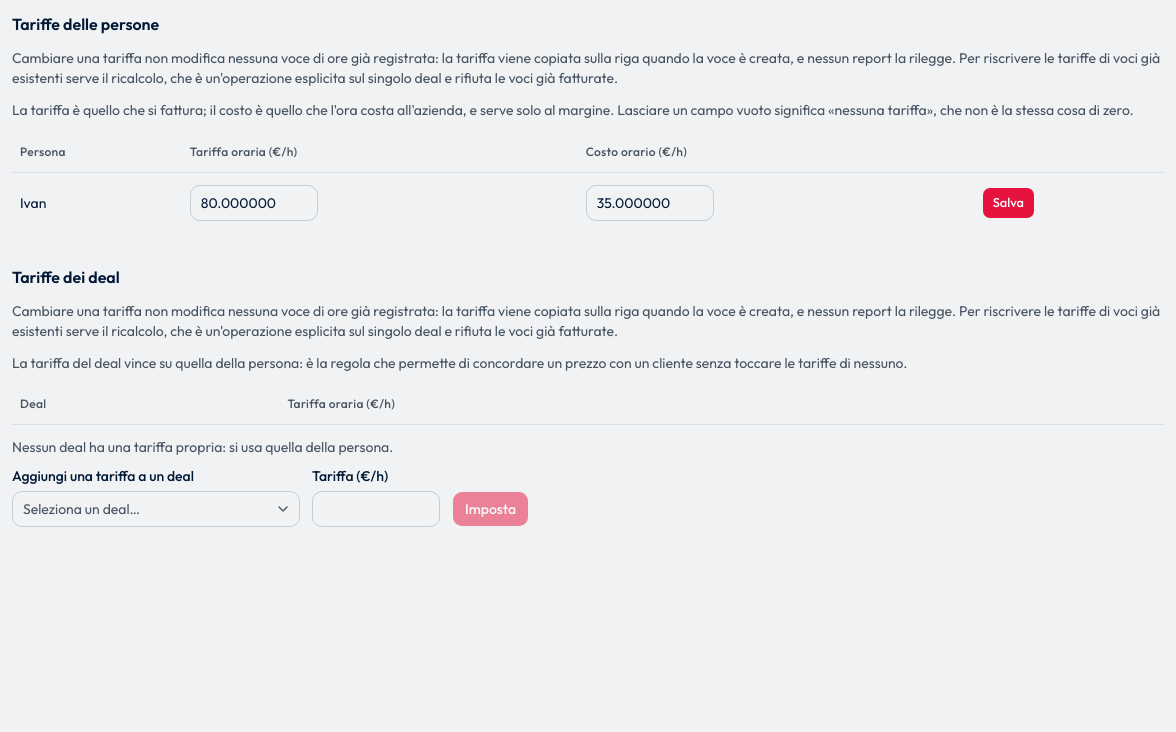
Test: RatesPanel › marks the input a 422 names, and leaves the other one alone
Step 1. Replace the text in the number field named "Costo orario di Ivan" with "-5" → (650,202), box [586,184,714,220]
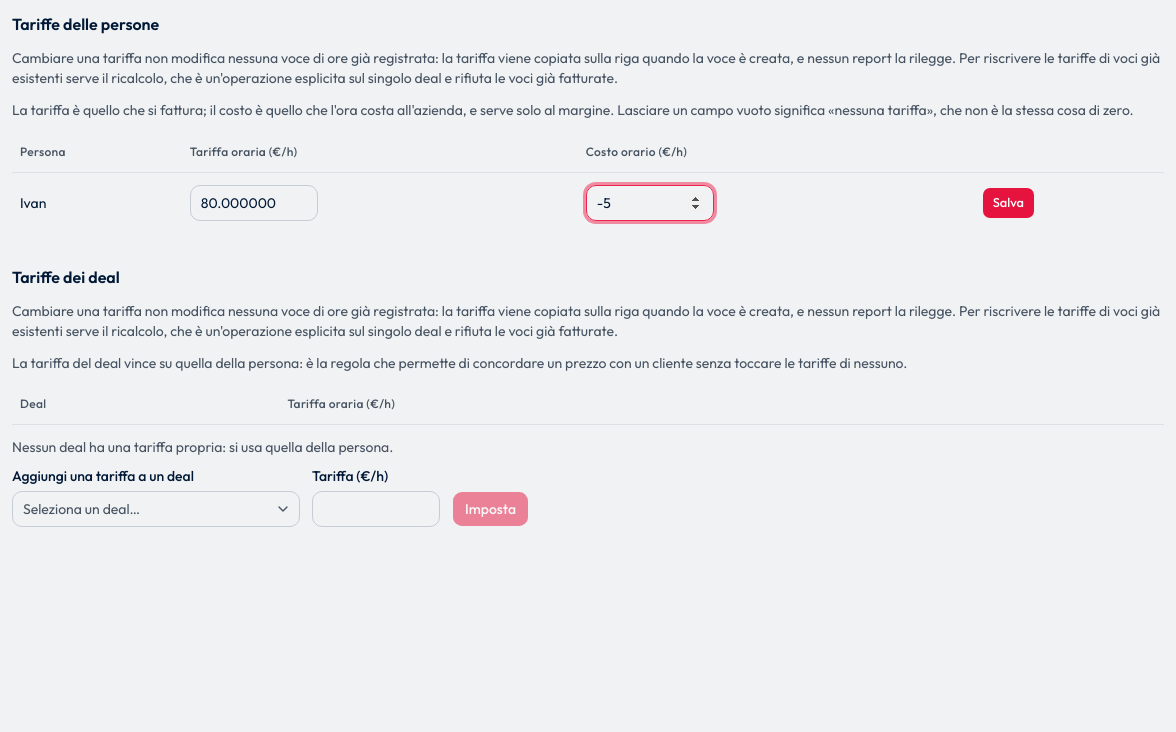
Step 2. Click the button "Salva" → (1008,202), box [982,186,1035,218]
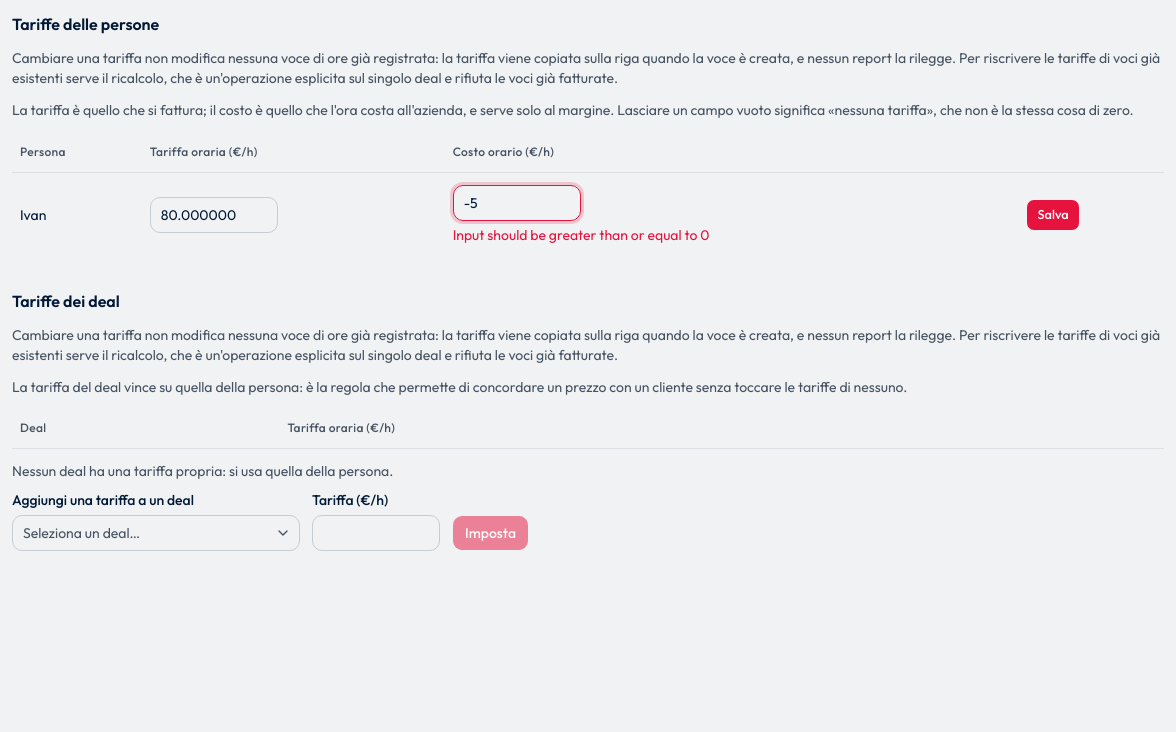
Check: the text "Input should be greater than or equal to 0" is shown, box [453,226,710,244]
